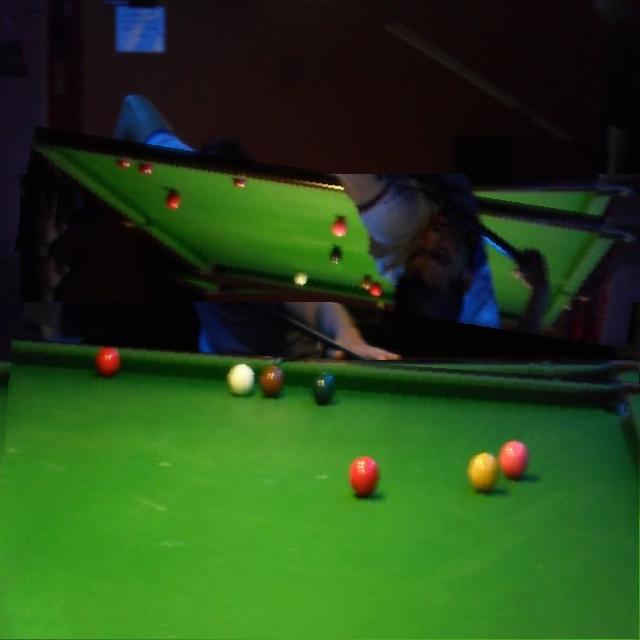Ball: (259, 453, 293, 493), (116, 423, 146, 464), (360, 369, 392, 405), (146, 444, 173, 479), (311, 374, 337, 406), (526, 364, 554, 392), (394, 372, 420, 400), (314, 239, 330, 263), (269, 186, 283, 204), (535, 273, 556, 285), (482, 242, 497, 256), (282, 190, 296, 204), (316, 214, 328, 228), (262, 175, 273, 189), (420, 272, 434, 283), (516, 272, 530, 282), (348, 185, 356, 199)
Billiard table: (0, 349, 640, 640), (17, 150, 640, 325)
